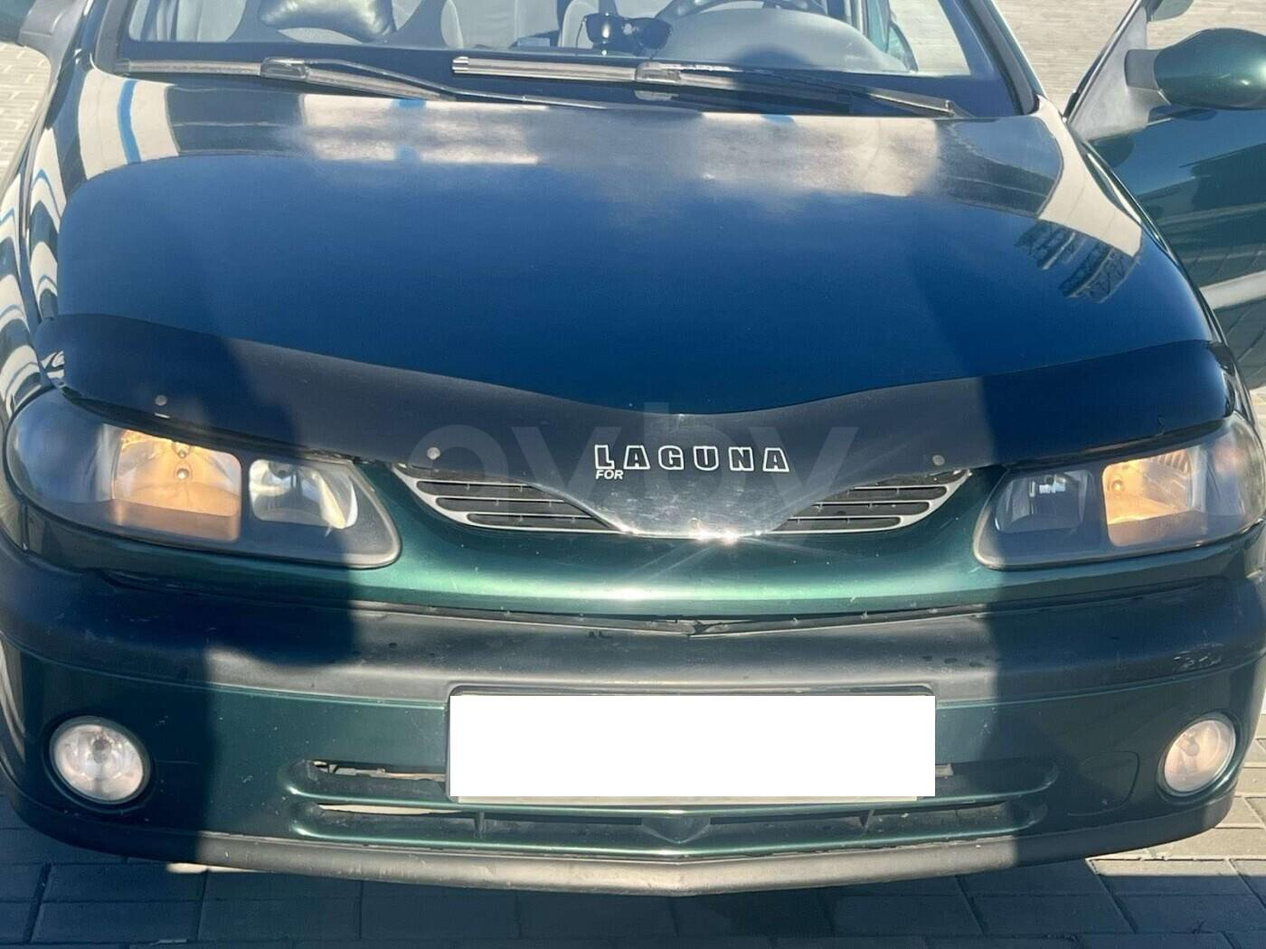Laguna_1998-2001: (0, 0, 1266, 877)
